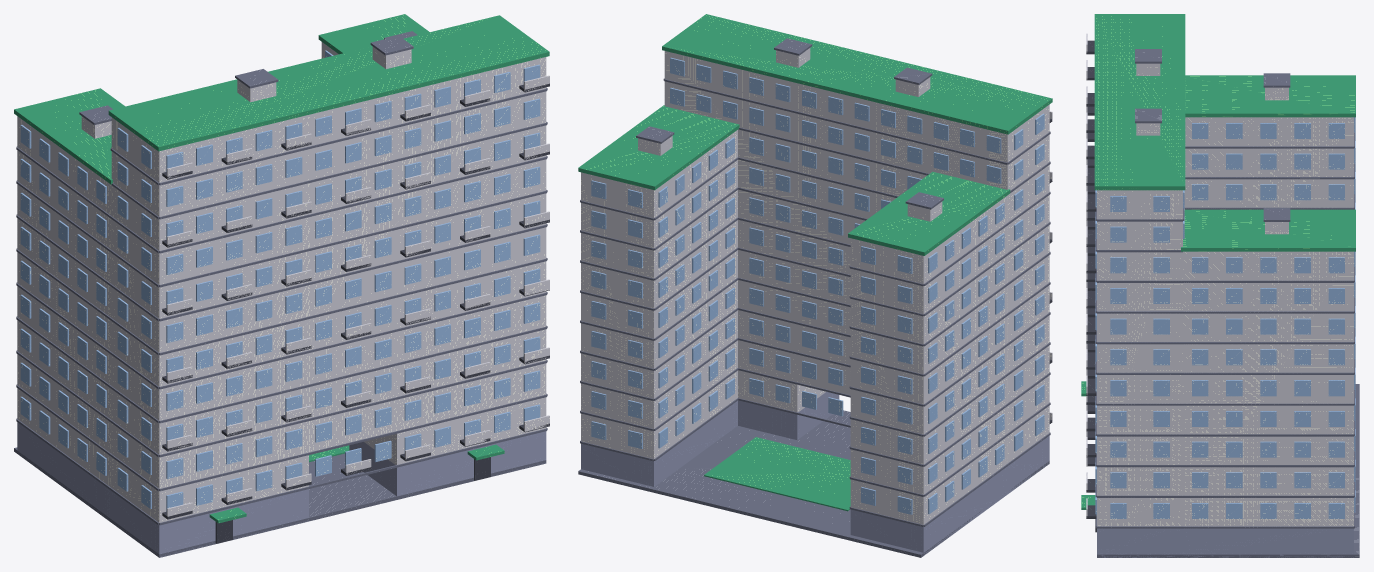
File: panel-3x2-l3.glb
The picture shows the model from 3 angles, left to right: view 1: azimuth 30°, elevation 25°; view 2: azimuth 150°, elevation 25°; view 3: azimuth 270°, elevation 25°; orthographic projection. The views are drawn at different scales.
Parts seen in each view (by area): view 1: panel-3x2-l3; view 2: panel-3x2-l3; view 3: panel-3x2-l3.
Part boxes in pixels (x1=…): panel-3x2-l3: x1=14, y1=14, x2=549, y2=557; panel-3x2-l3: x1=578, y1=14, x2=1052, y2=557; panel-3x2-l3: x1=1081, y1=14, x2=1359, y2=557.
Size of the model in its own units: 5.78 by 6.05 by 3.94.
Materials: 1 (1 with a texture image).
